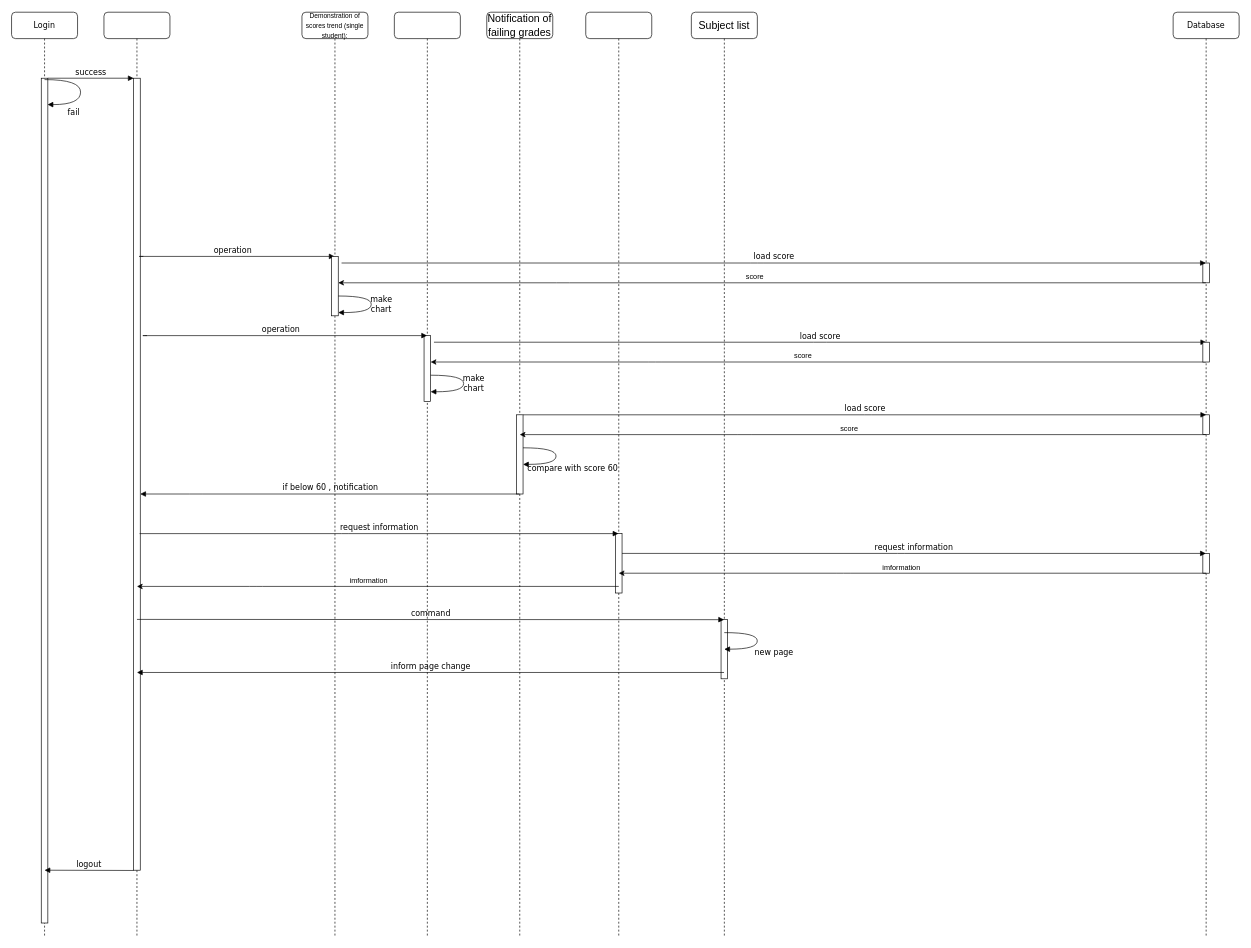
Image size: 1251x948. Some labels were removed from this diagram. The box of each missing label's shape, as (x1, y1, x2, y2) in pixels:
Class grading information of each test: (585, 12, 652, 936)
Distribution(class student): (394, 12, 460, 936)
Student UI: (103, 12, 170, 936)
